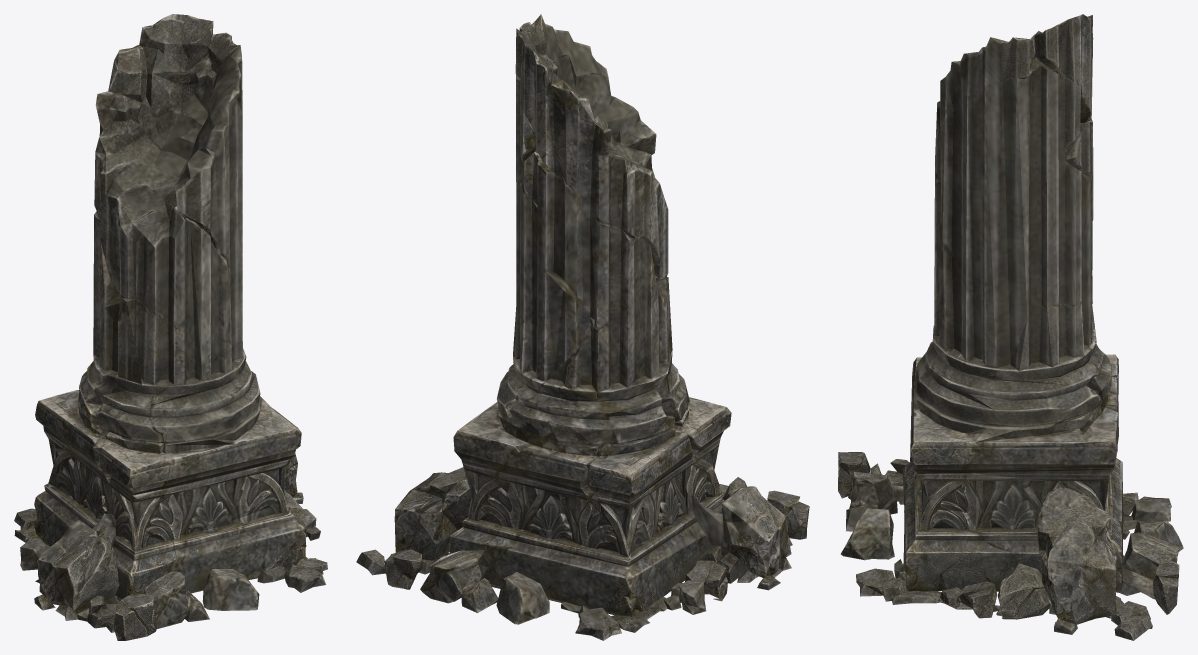
The model's file is column.glb.
3 renders of one model, left to right at view 1: azimuth 30°, elevation 25°; view 2: azimuth 150°, elevation 25°; view 3: azimuth 270°, elevation 25°, orthographic. The views are drawn at different scales.
Visible parts, largest first — view 1: output_unwrapped; view 2: output_unwrapped; view 3: output_unwrapped.
Part boxes in pixels (x1=…): output_unwrapped: x1=14, y1=14, x2=327, y2=640; output_unwrapped: x1=356, y1=14, x2=809, y2=640; output_unwrapped: x1=838, y1=14, x2=1183, y2=640.
Size of the model in its own units: 1.26 by 1.9 by 1.07.
Materials: 1 (1 with a texture image).
